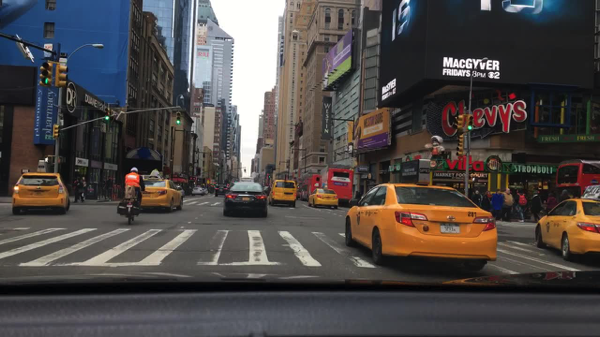bus: (555, 159, 598, 201), (319, 166, 354, 201), (297, 176, 322, 201)
car: (344, 159, 498, 273), (535, 183, 598, 263), (10, 159, 71, 215), (140, 169, 184, 212), (223, 182, 268, 218), (268, 179, 297, 206), (307, 188, 338, 210), (213, 184, 229, 197), (192, 186, 208, 196), (176, 185, 186, 198), (263, 186, 272, 196)
motor: (117, 190, 148, 225)
person: (528, 190, 544, 223), (514, 188, 529, 223), (501, 188, 515, 222), (490, 188, 504, 221), (544, 192, 558, 213), (481, 190, 493, 212), (470, 190, 483, 208), (73, 176, 81, 204), (107, 176, 113, 202), (560, 189, 572, 202), (81, 177, 87, 202), (100, 178, 106, 201)
rider: (123, 168, 146, 204)
traffic light: (40, 61, 54, 88), (58, 63, 69, 89), (454, 134, 464, 158), (453, 114, 462, 132), (467, 114, 474, 132), (53, 122, 60, 139), (104, 107, 110, 123), (176, 111, 182, 125), (267, 174, 271, 178)
traffic sign: (44, 43, 52, 51)
